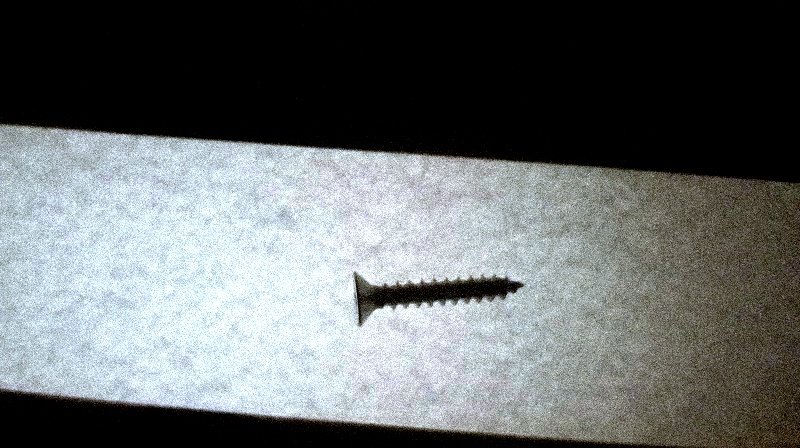S001: (349, 264, 527, 326)
